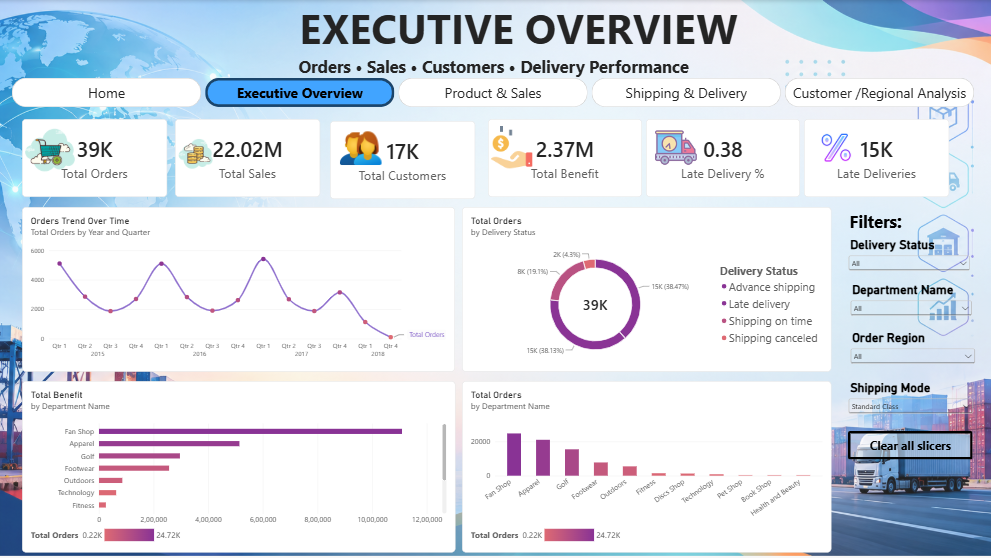

The page's visual inventory and layout, read from the dashboard file:
{"tool":"powerbi","page":{"name":"Executive Overview","canvas":[1920,1080],"ordinal":1},"visuals":[{"type":"textbox","box":[0,0,1919.4,150],"z":0},{"type":"card","fields":{"Values":["Measures (2).Total Orders"]},"box":[42.2,231.1,280.6,150.9],"z":1000},{"type":"card","fields":{"Values":["Measures (2).Total Sales"]},"box":[337.8,231.1,280.6,150.9],"z":2000},{"type":"card","fields":{"Values":["Measures (2).Total Customers"]},"box":[637.8,233.3,280.6,150.9],"z":3000},{"type":"card","fields":{"Values":["Measures (2).Total Benefit"]},"box":[944.4,231.1,297.6,150.9],"z":4000},{"type":"card","fields":{"Values":["Measures (2).Late Delivery %"]},"box":[1251.1,231.1,297.6,150.9],"z":5000},{"type":"card","fields":{"Values":["Measures (2).Late Deliveries"]},"box":[1555.6,231.1,280.6,150.9],"z":6000},{"type":"image","box":[652,244.9,91.7,82.3],"z":7000},{"type":"image","box":[949.6,244.1,80.2,82.3],"z":8000},{"type":"image","box":[1267.3,252.1,81,69.2],"z":9000},{"type":"image","box":[1548.8,248.8,140.3,72.3],"z":10000},{"type":"image","box":[337.8,252,80.2,92.7],"z":11000},{"type":"image","box":[23.6,233.1,145.1,117.1],"z":12000},{"type":"lineChart","title":"Orders Trend Over Time ","fields":{"Category":["Dim_Order.order date.Variation.Date Hierarchy.Year","Dim_Order.order date.Variation.Date Hierarchy.Quarter"],"Y":["Measures (2).Total Orders"]},"box":[42.2,400,838.3,319.1],"z":13000},{"type":"donutChart","fields":{"Category":["Dim_Order.Delivery Status"],"Y":["Measures (2).Total Orders"]},"box":[893.3,400,714.9,319.1],"z":14000},{"type":"slicer","fields":{"Values":["Fact_Supply_Chain_Dataset.Shipping Mode"]},"box":[1638.3,737.4,251.1,68.1],"z":15000},{"type":"barChart","fields":{"Category":["Dim_Department.Department Name"],"Y":["Measures (2).Total Benefit"]},"box":[42.2,737.8,838.5,332.3],"z":16000},{"type":"textbox","box":[1641.7,400,107.8,53],"z":17000},{"type":"slicer","fields":{"Values":["Dim_Department.Department Name"]},"box":[1641.7,547,245.2,67.8],"z":18000},{"type":"slicer","fields":{"Values":["Dim_Order.Order Region"]},"box":[1641.7,640.9,251.1,68.1],"z":19000},{"type":"slicer","fields":{"Values":["Dim_Order.Delivery Status"]},"box":[1638.3,460,245.2,67.8],"z":20000},{"type":"columnChart","fields":{"Category":["Dim_Department.Department Name"],"Y":["Measures (2).Total Orders"]},"box":[893.3,737.8,714.6,332.3],"z":21000},{"type":"actionButton","box":[1641.4,834.5,241.4,55.2],"z":22000},{"type":"pageNavigator","box":[23.5,151,1866.7,56.9],"z":23000}]}

Visuals, with their boxes in screenshot pixels (x1, y1, x2, y2), scaled from the page's 1920x1080 canvas onto the 991x558 screenshot:
textbox: 0,0,990,78
card - Measures (2).Total Orders: 22,119,167,197
card - Measures (2).Total Sales: 174,119,319,197
card - Measures (2).Total Customers: 329,121,474,199
card - Measures (2).Total Benefit: 487,119,641,197
card - Measures (2).Late Delivery %: 646,119,799,197
card - Measures (2).Late Deliveries: 803,119,948,197
image: 337,127,384,169
image: 490,126,532,169
image: 654,130,696,166
image: 799,129,872,166
image: 174,130,216,178
image: 12,120,87,181
"Orders Trend Over Time " lineChart: 22,207,454,372
donutChart - Dim_Order.Delivery Status x Measures (2).Total Orders: 461,207,830,372
slicer - Fact_Supply_Chain_Dataset.Shipping Mode: 846,381,975,416
barChart - Dim_Department.Department Name x Measures (2).Total Benefit: 22,381,455,553
textbox: 847,207,903,234
slicer - Dim_Department.Department Name: 847,283,974,318
slicer - Dim_Order.Order Region: 847,331,977,366
slicer - Dim_Order.Delivery Status: 846,238,972,273
columnChart - Dim_Department.Department Name x Measures (2).Total Orders: 461,381,830,553
actionButton: 847,431,972,460
pageNavigator: 12,78,976,107
